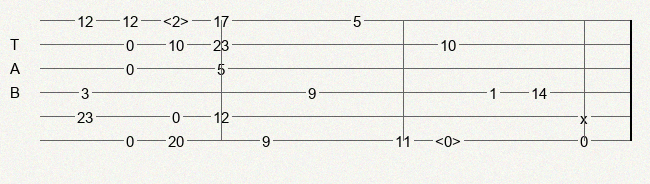0: (126, 37, 138, 52), (126, 133, 138, 148), (126, 61, 138, 76), (172, 109, 184, 124), (580, 133, 592, 148)
1: (489, 85, 501, 100)
10: (168, 37, 188, 52), (440, 37, 460, 52)
11: (395, 133, 415, 148)
12: (77, 13, 97, 28), (122, 13, 142, 28), (213, 109, 233, 124)
14: (531, 85, 551, 100)
17: (213, 13, 233, 28)
20: (168, 133, 188, 148)
23: (77, 109, 97, 124), (213, 37, 233, 52)
3: (81, 85, 93, 100)
5: (217, 61, 229, 76), (353, 13, 365, 28)
9: (262, 133, 274, 148), (308, 85, 320, 100)
harmonic: (163, 13, 193, 28), (435, 133, 465, 148)
x: (580, 110, 592, 122)
